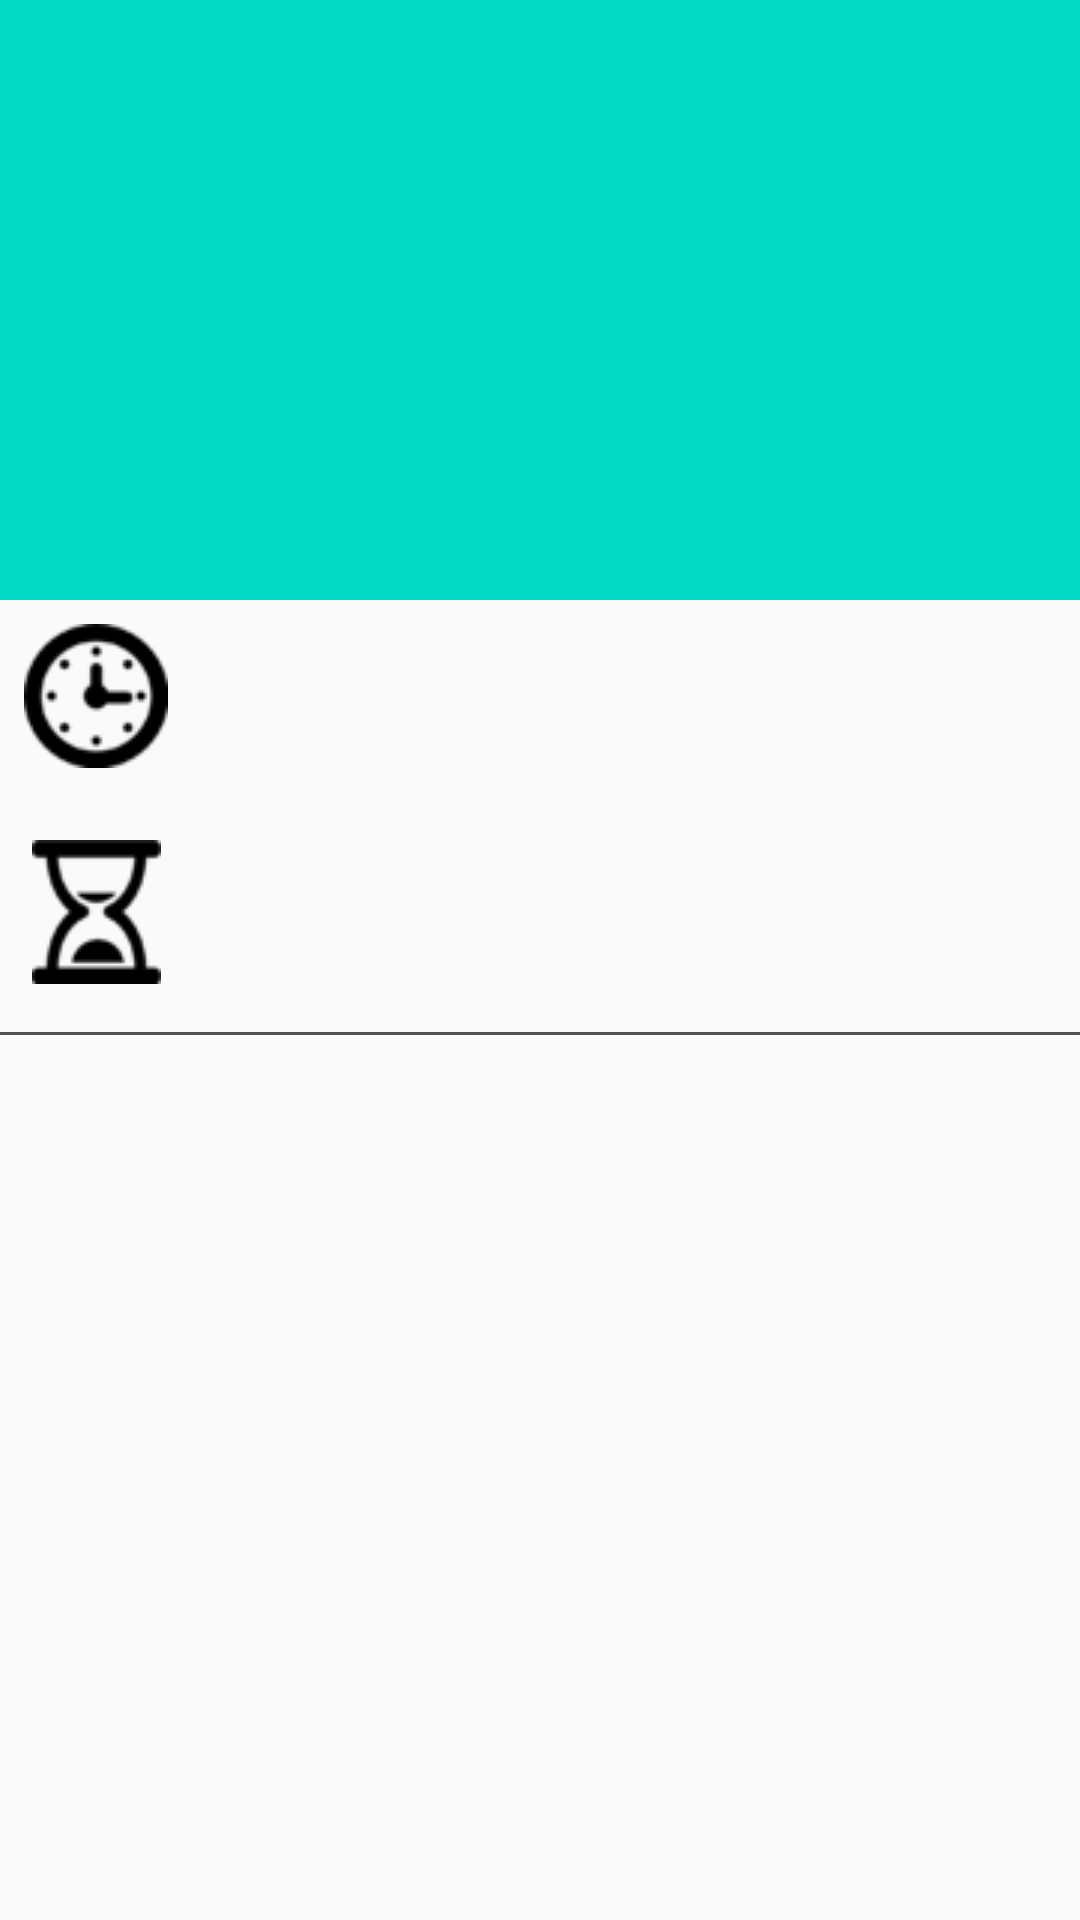

Where to tap for icons on this 1080*1920 app screen, as (x,y):
circular clock: (96,696)
count down: (96,912)
